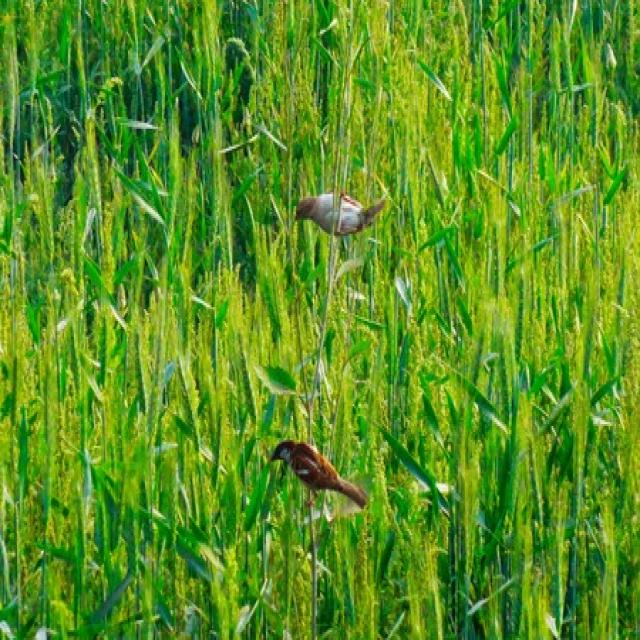bird: (274, 437, 366, 520), (293, 190, 395, 236)
